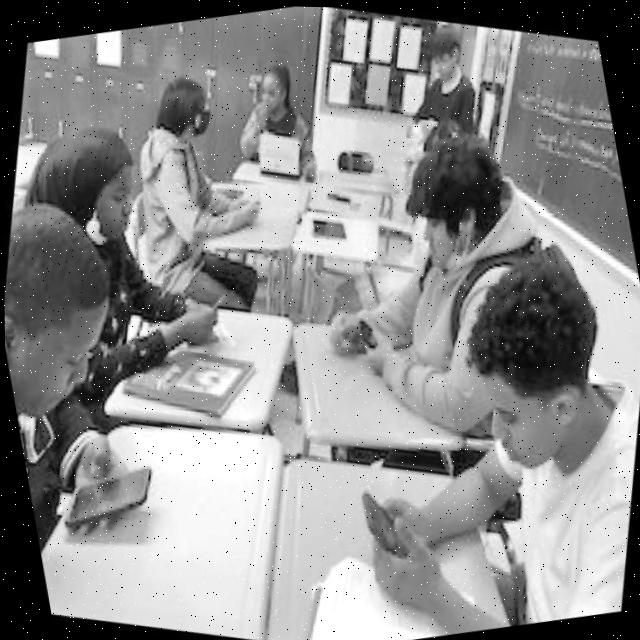phone: (52, 440, 165, 549), (345, 479, 426, 565), (187, 281, 235, 340), (352, 313, 386, 350)
